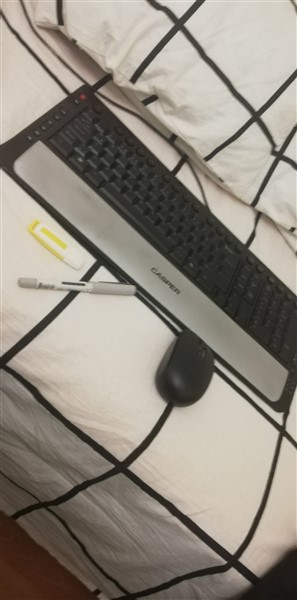flash disk: (29, 218, 97, 272)
klavye: (18, 76, 293, 410)
mouse: (152, 327, 217, 404)
pilot kalem: (16, 272, 151, 306)
